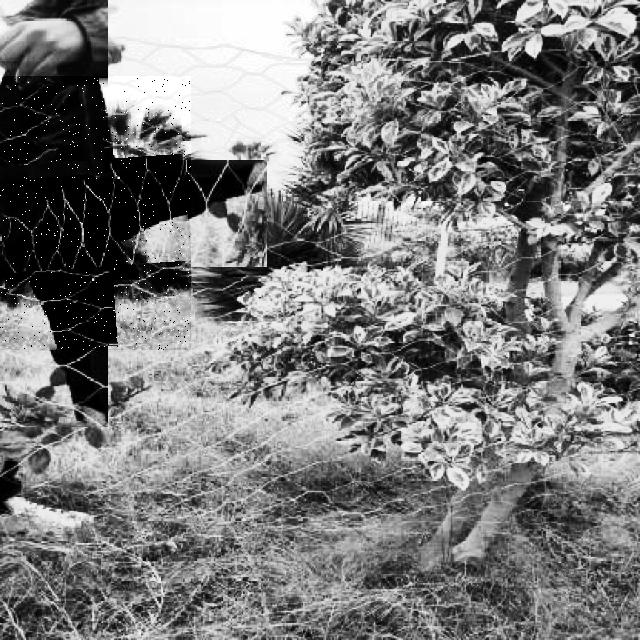anomaly-fence: (0, 76, 191, 350)
